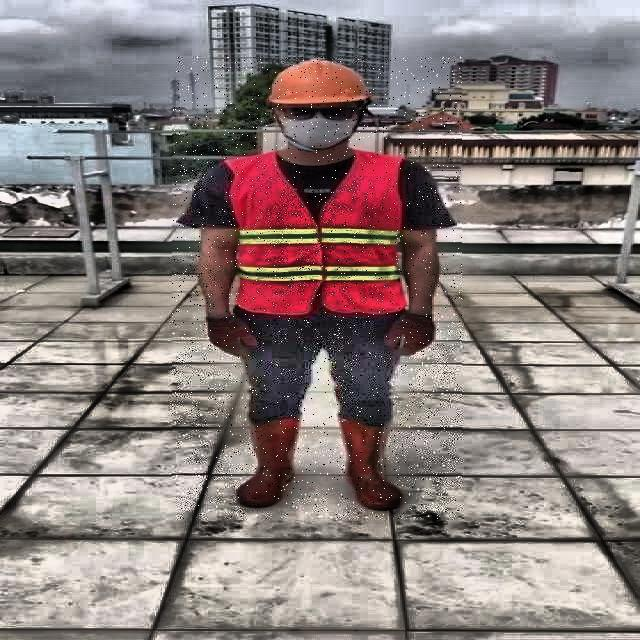safety_helmet: (264, 59, 374, 108)
safety_jacket: (224, 153, 407, 318)
